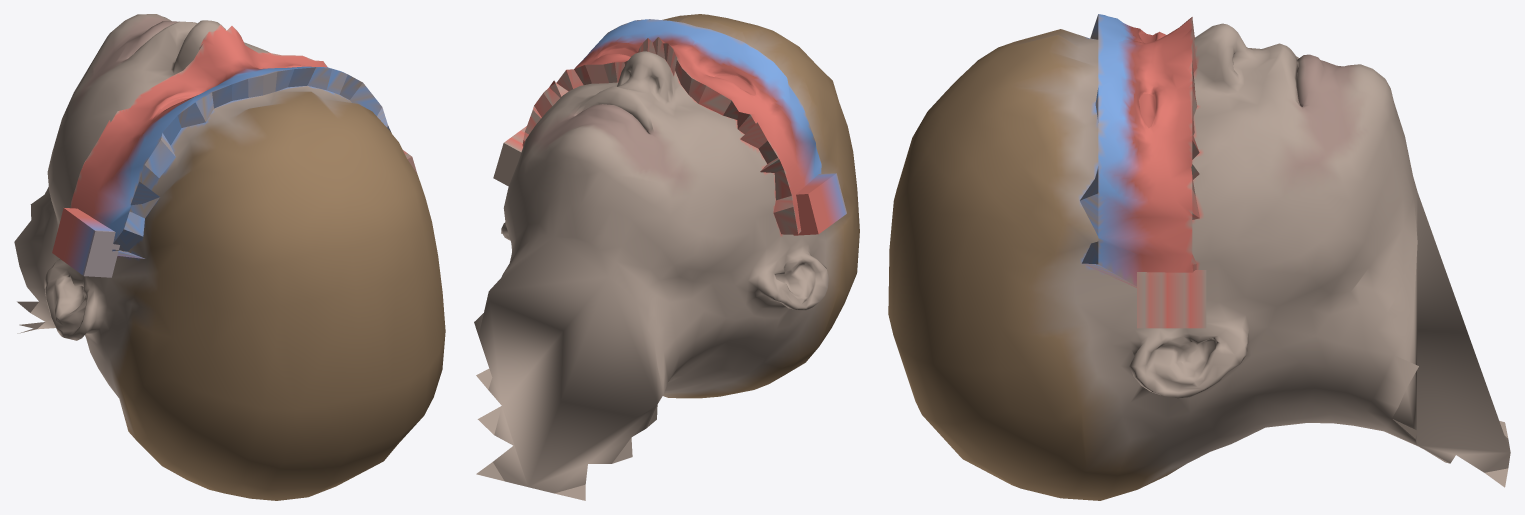
Rendered from windman_head_authored.glb.
3 renders of one model, left to right at view 1: azimuth 30°, elevation 25°; view 2: azimuth 150°, elevation 25°; view 3: azimuth 270°, elevation 25°, orthographic. The views are drawn at different scales.
Visible parts, largest first — view 1: Human; view 2: Human; view 3: Human.
Part boxes in pixels (<box>): Human: <box>14,14,445,500</box>; Human: <box>474,14,859,500</box>; Human: <box>888,14,1510,500</box>.
Bounding box in the file's own units: 0.2175 × 0.2521 × 0.304.
Materials: 1 (1 with a texture image).
